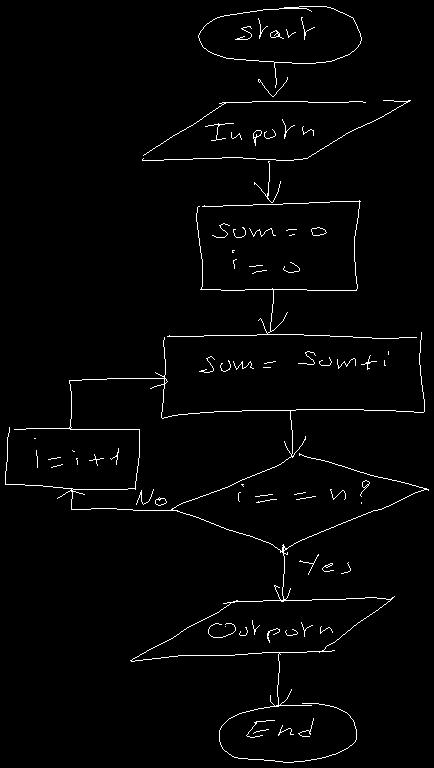arrow: (69, 372, 167, 428), (57, 489, 177, 510), (258, 288, 287, 333), (270, 653, 291, 706), (254, 161, 280, 202), (284, 410, 305, 456), (258, 63, 287, 96), (274, 544, 290, 601)
data: (130, 596, 394, 661), (142, 100, 410, 160)
decision: (171, 453, 428, 554)
process: (161, 332, 424, 418), (196, 200, 360, 290), (5, 427, 139, 489)
terminator: (198, 6, 361, 63), (219, 703, 356, 762)
text: (212, 223, 326, 273), (199, 351, 388, 372), (238, 480, 369, 503), (205, 119, 313, 145), (208, 620, 332, 642), (34, 438, 118, 467), (235, 17, 314, 39), (246, 718, 313, 737), (299, 554, 350, 574), (136, 489, 166, 505)
